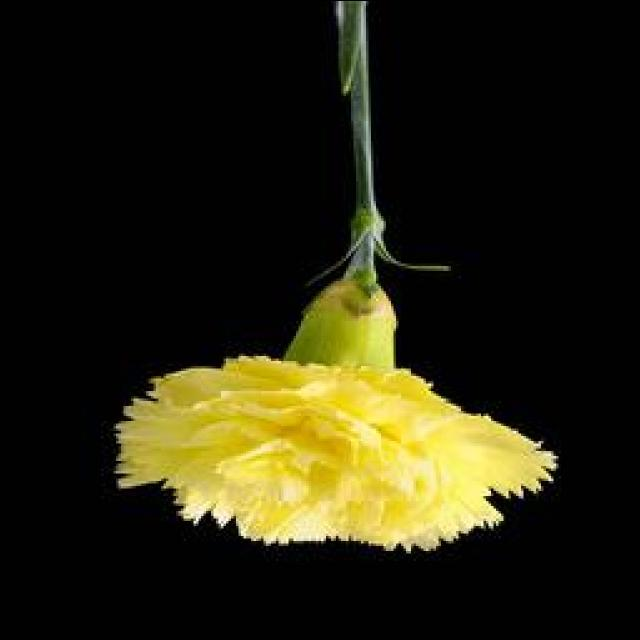carnation: (135, 329, 579, 567)
